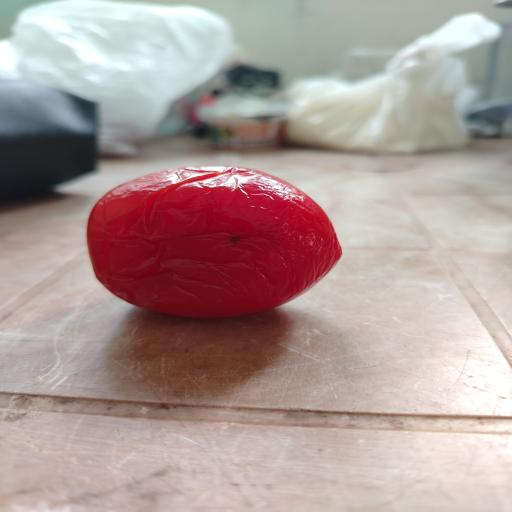spoiled: (88, 167, 341, 318)
